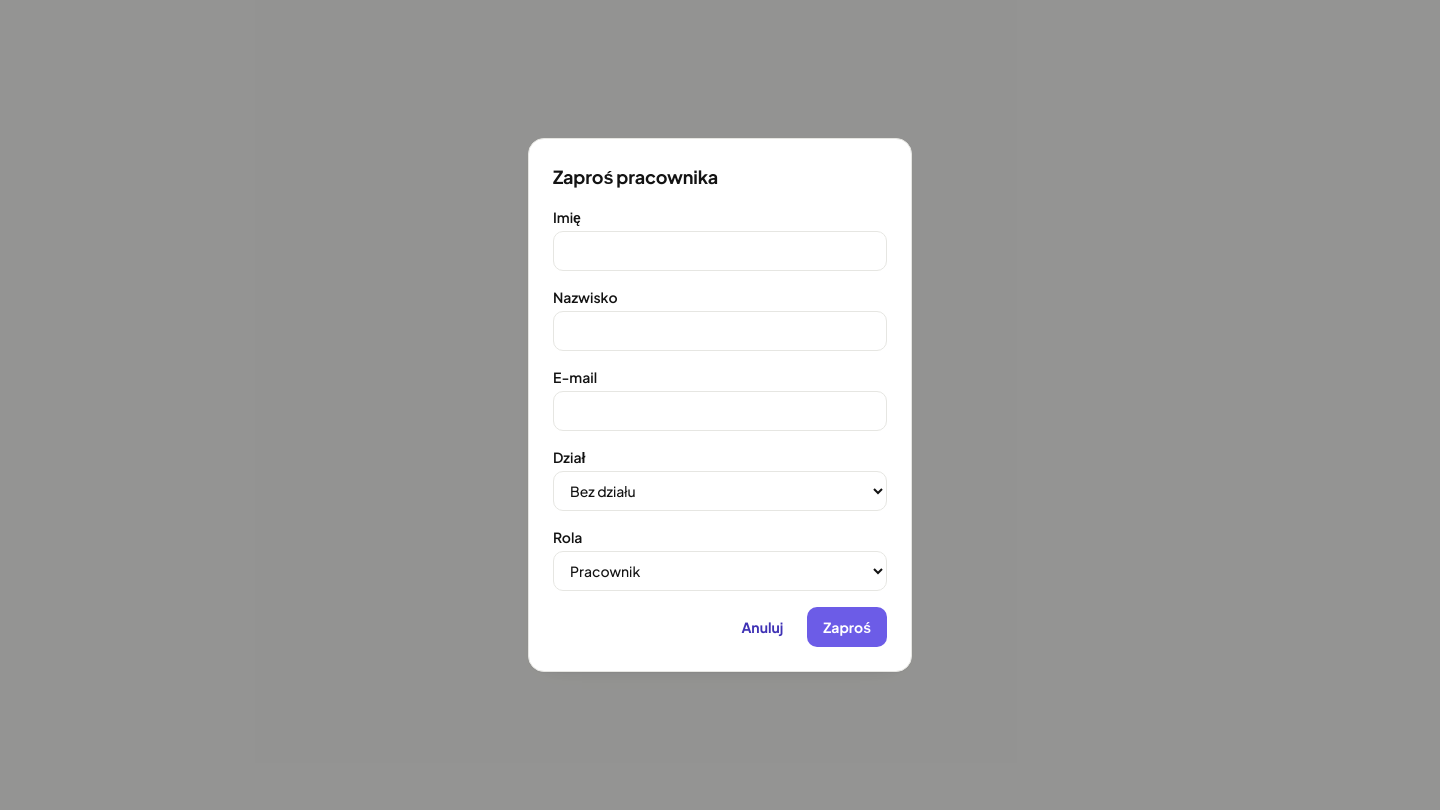
Test case: InviteUserModal › blokuje wysyłkę przy pustych polach i nie woła API
Step 1. Click the button "Zaproś" → (847, 627), box [807, 607, 887, 647]
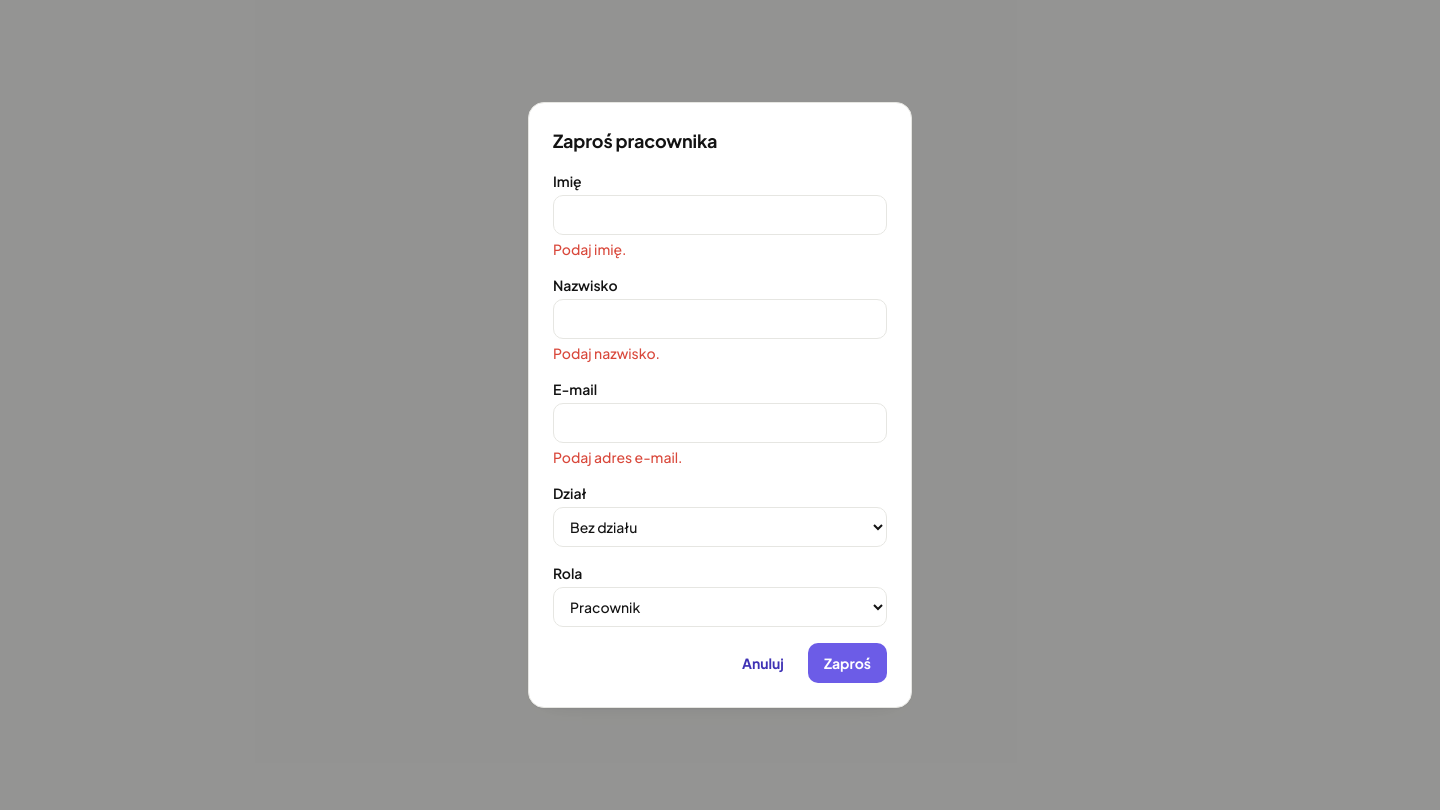
Expected: the text "Podaj imię." is shown, [553, 240, 626, 258]
Expected: the text "Podaj nazwisko." is shown, [553, 344, 660, 362]
Expected: the text "Podaj adres e-mail." is shown, [553, 448, 682, 466]
